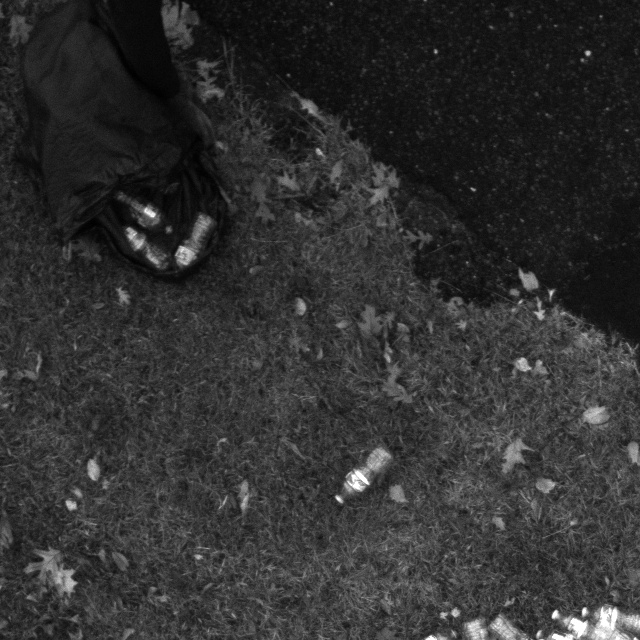bottle: (324, 435, 399, 521)
